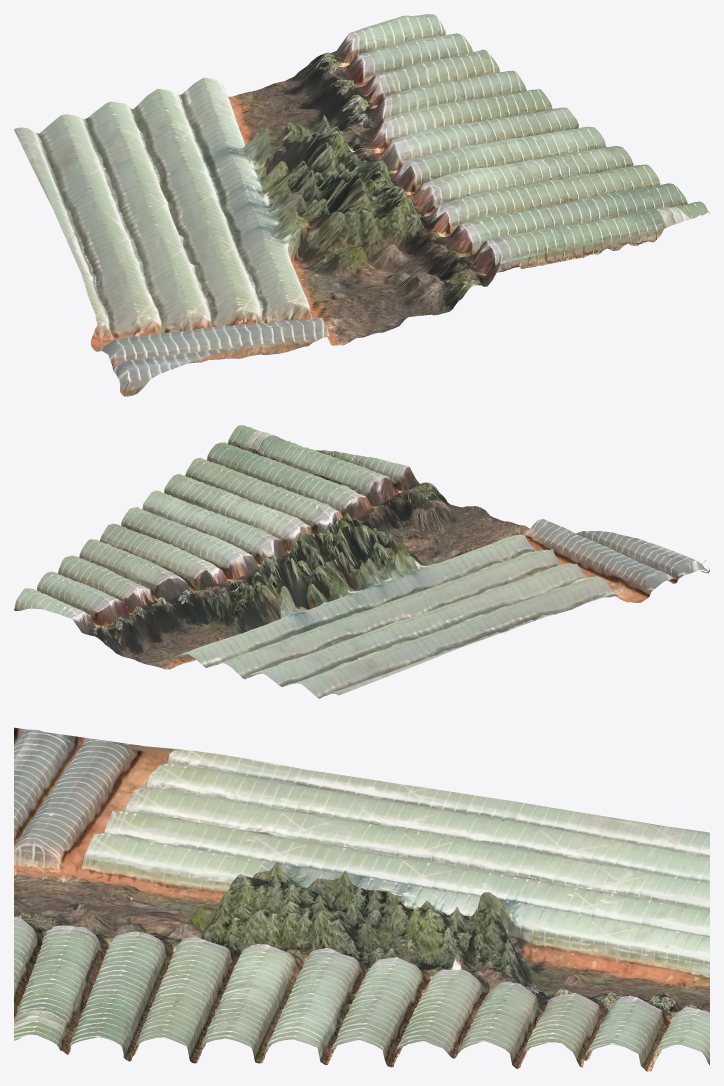
File: BlockBB_L20_120.glb
3 views of the same model, one above another, from view 1: azimuth 30°, elevation 25°; view 2: azimuth 150°, elevation 25°; view 3: azimuth 270°, elevation 25° (orthographic). The views are drawn at different scales.
Parts seen in each view (by area): view 1: rtc; view 2: rtc; view 3: rtc.
Boxes of the visible parts, x1,y1,x2,y2 form: rtc: [14, 14, 709, 396]; rtc: [14, 425, 709, 698]; rtc: [14, 727, 709, 1071].
Bounding box in the file's own units: 68.7 × 7.32 × 58.28.
Materials: 9 (9 with a texture image).
